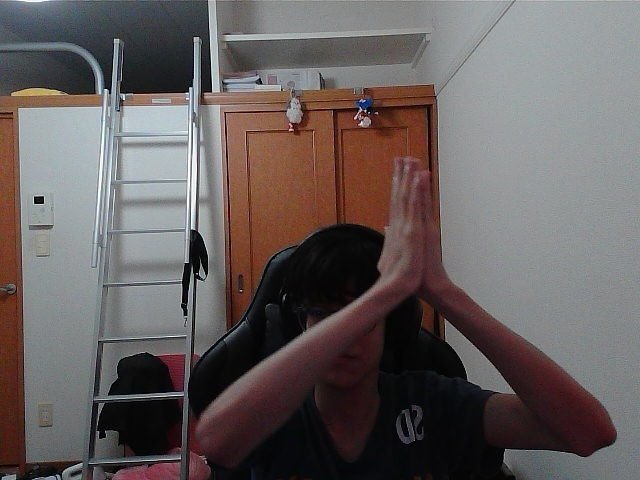pray: (387, 163, 418, 278)
